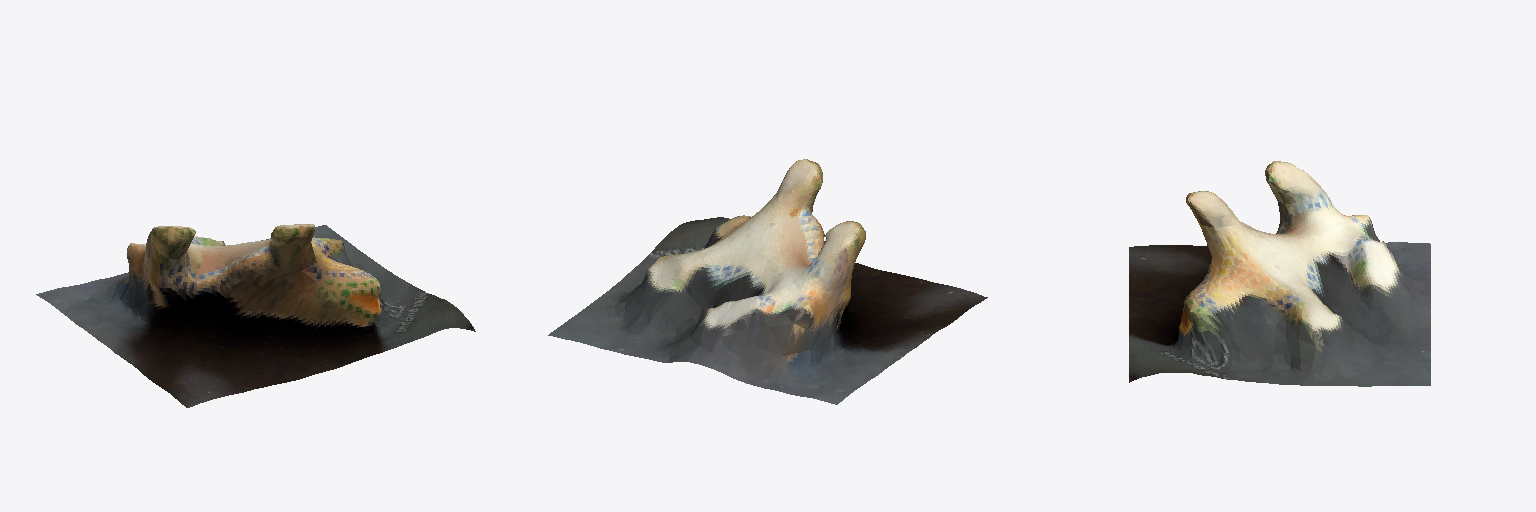
3 renders of one model, left to right at view 1: azimuth 30°, elevation 25°; view 2: azimuth 150°, elevation 25°; view 3: azimuth 270°, elevation 25°, orthographic.
Parts seen in each view (by area): view 1: mesh; view 2: mesh; view 3: mesh.
Part boxes in pixels (x1,y1,x2,y2): mesh: (36,224,475,407); mesh: (548,159,987,404); mesh: (1129,161,1430,386).
Bounding box in the file's own units: 0.1414 × 0.0575 × 0.1277.
1 materials, 1 textured.